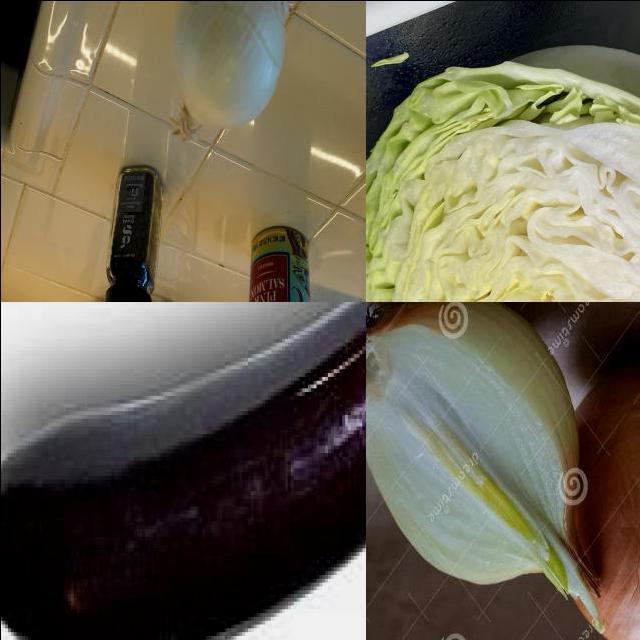bell_pepper: (101, 168, 165, 302)
cabbage: (366, 38, 640, 302)
eggplant: (1, 302, 366, 640)
onion: (366, 302, 590, 622), (570, 351, 640, 640), (164, 1, 295, 148)
